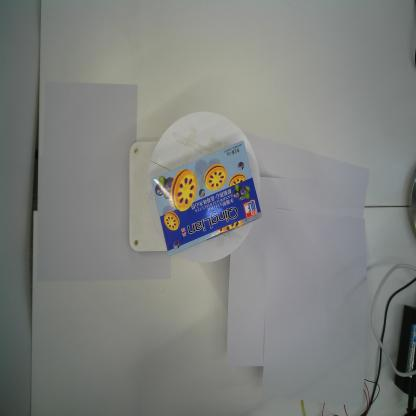Dessert: (151, 138, 263, 258)
